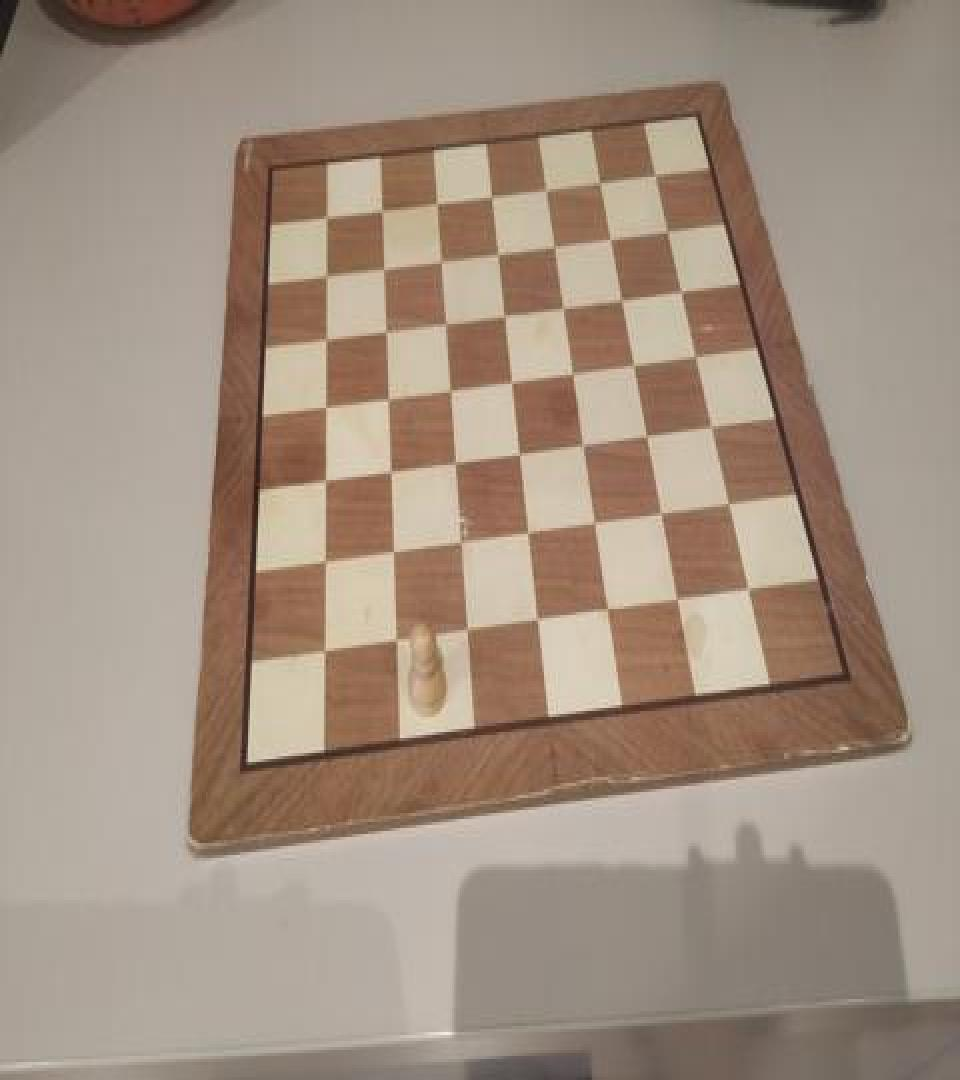xcorner: (518, 520, 536, 548), (720, 490, 738, 518), (574, 430, 592, 458), (686, 340, 704, 368), (374, 316, 392, 344), (494, 298, 512, 326), (671, 274, 689, 302), (429, 244, 447, 272), (601, 220, 619, 248), (314, 202, 332, 230), (536, 172, 554, 200), (456, 621, 474, 648), (528, 609, 546, 636), (599, 598, 617, 625), (670, 587, 688, 614), (740, 576, 758, 603), (312, 552, 330, 579), (450, 531, 468, 558), (586, 510, 604, 537), (653, 499, 671, 526), (312, 470, 330, 497), (378, 459, 396, 486), (444, 450, 462, 477), (703, 411, 721, 438), (313, 393, 331, 420), (376, 384, 394, 411), (439, 375, 457, 402), (501, 366, 519, 393), (563, 357, 581, 384), (625, 348, 643, 375), (313, 324, 331, 351), (553, 291, 571, 318), (612, 282, 630, 309), (313, 261, 331, 288), (487, 237, 505, 264), (657, 213, 675, 240), (370, 195, 388, 222), (425, 188, 443, 215), (481, 180, 499, 207), (590, 165, 608, 192), (645, 157, 663, 184), (311, 644, 329, 670), (384, 632, 402, 658), (381, 542, 399, 568), (509, 440, 527, 466), (639, 422, 657, 448), (434, 308, 452, 334), (372, 254, 390, 280), (544, 230, 562, 256)
